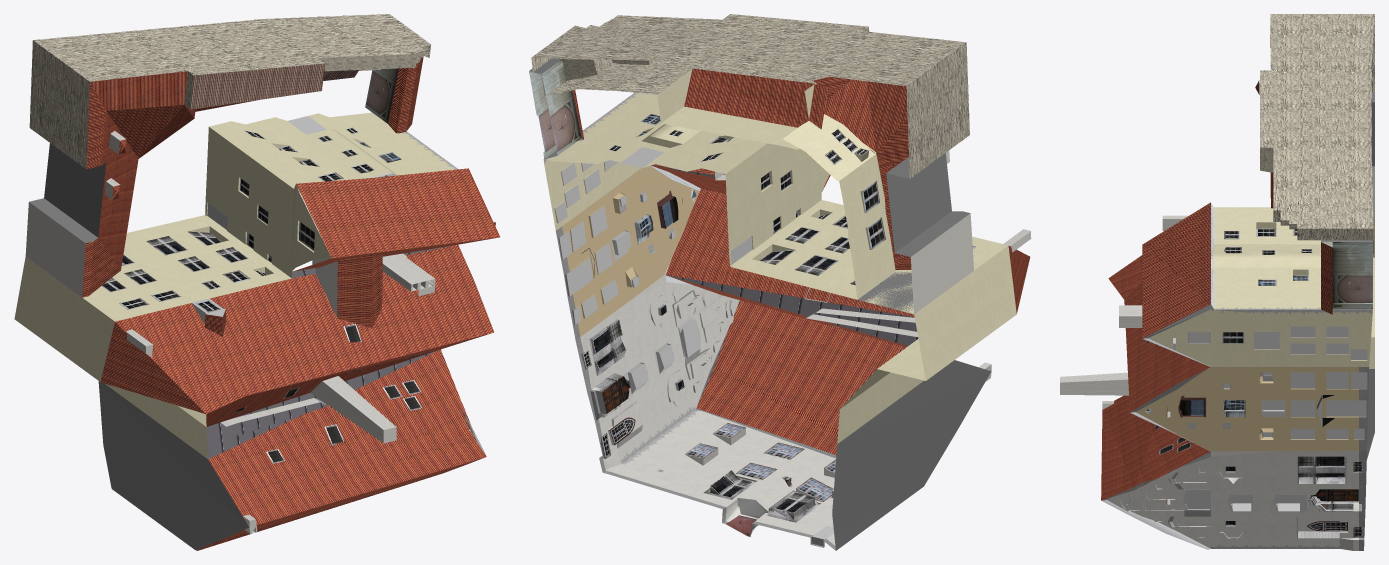
Rendered from Pikk_71-origo.obj.
The picture shows the model from 3 angles, left to right: view 1: azimuth 30°, elevation 25°; view 2: azimuth 150°, elevation 25°; view 3: azimuth 270°, elevation 25°; orthographic projection. The views are drawn at different scales.
Parts seen in each view (by area): view 1: Pikk_71; view 2: Pikk_71; view 3: Pikk_71.
Part boxes in pixels (x1=…): Pikk_71: x1=14, y1=14, x2=500, y2=550; Pikk_71: x1=529, y1=14, x2=1031, y2=550; Pikk_71: x1=1060, y1=14, x2=1374, y2=550.
Size of the model in its own units: 30.38 by 35 by 23.22.
